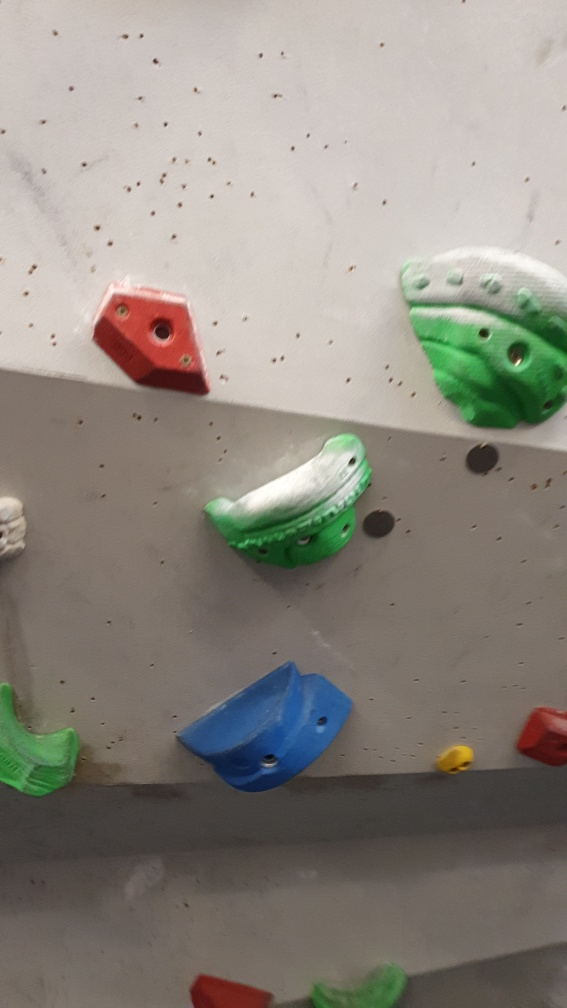Crimp: (99, 278, 215, 400)
Hand Start: (359, 502, 403, 548), (461, 443, 499, 484)
Jug: (398, 239, 567, 428), (204, 435, 373, 567), (1, 679, 87, 803)
Pinch: (175, 657, 356, 797)
